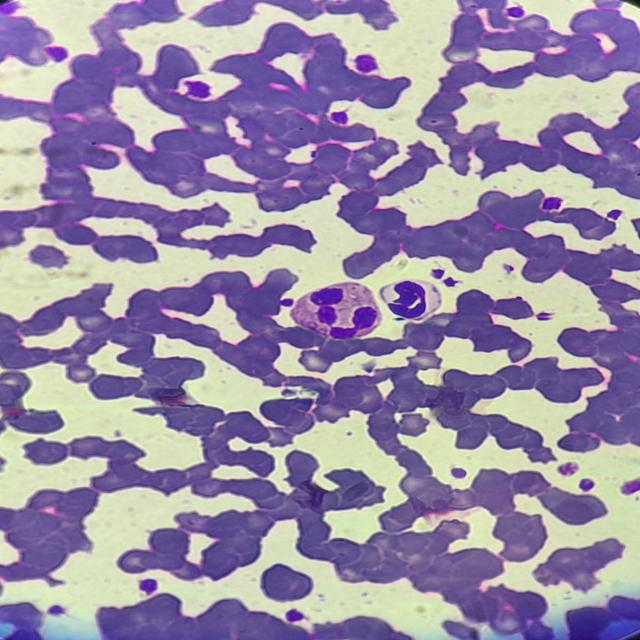Neutrofilo: (292, 281, 388, 345), (376, 277, 451, 321)
